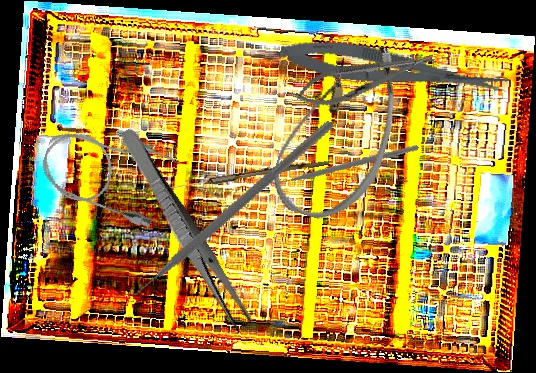Cannula: (264, 27, 414, 232), (33, 113, 182, 231)
Chopper: (108, 74, 336, 342), (263, 83, 420, 241)
Dressing Forceps: (113, 125, 258, 337)
Micro Scissor: (277, 30, 511, 110)
Needle Holder: (291, 40, 440, 116)
Surgical Spoon: (165, 156, 330, 194)
